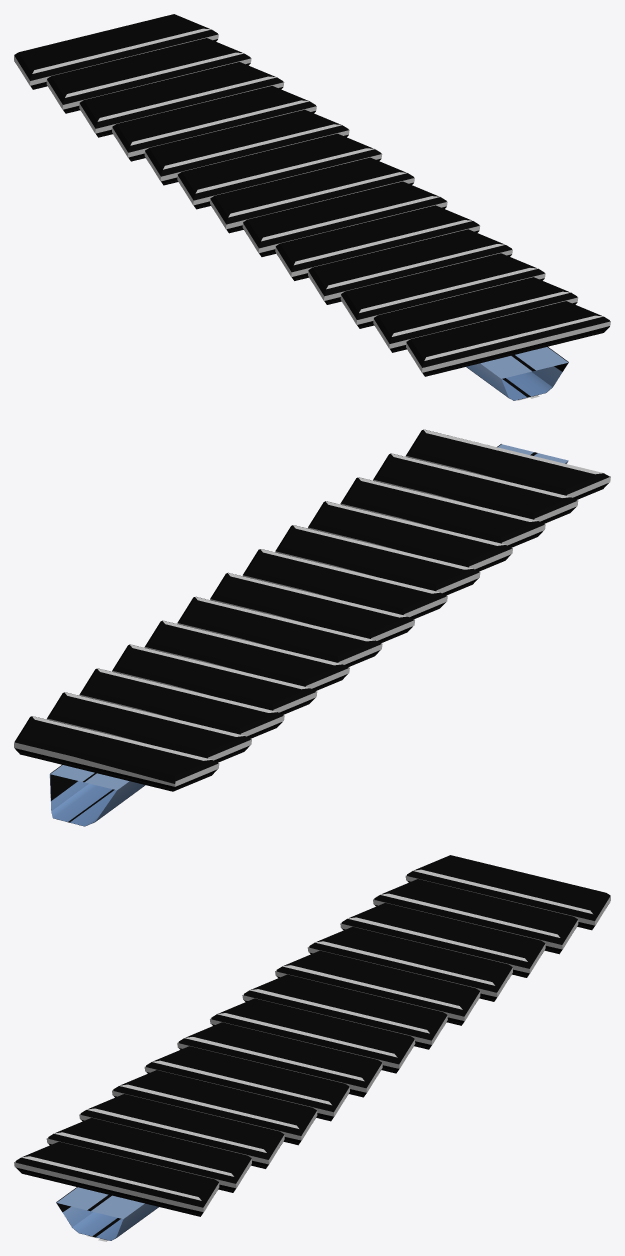
Rendered from Rooms_Paradise_SciFi_Stairs_16b_Art.fbx.
3 renders of one model, top to bottom at view 1: azimuth 30°, elevation 25°; view 2: azimuth 150°, elevation 25°; view 3: azimuth 330°, elevation 25°, orthographic.
Parts seen in each view (by area): view 1: Rooms_Paradise_SciFi_Stairs_Steps_16b_Outliner, Rooms_Paradise_SciFi_Stairs_Steps_16b_Shadows, Rooms_Paradise_SciFi_Stairs_16b_Art; view 2: Rooms_Paradise_SciFi_Stairs_Steps_16b_Outliner, Rooms_Paradise_SciFi_Stairs_Steps_16b_Shadows, Rooms_Paradise_SciFi_Stairs_16b_Art; view 3: Rooms_Paradise_SciFi_Stairs_Steps_16b_Outliner, Rooms_Paradise_SciFi_Stairs_Steps_16b_Shadows, Rooms_Paradise_SciFi_Stairs_16b_Art.
Boxes of the visible parts, x1,y1,x2,y2 form: Rooms_Paradise_SciFi_Stairs_Steps_16b_Outliner: (14, 14, 609, 376); Rooms_Paradise_SciFi_Stairs_Steps_16b_Shadows: (14, 28, 610, 372); Rooms_Paradise_SciFi_Stairs_16b_Art: (466, 347, 568, 400); Rooms_Paradise_SciFi_Stairs_Steps_16b_Outliner: (14, 429, 609, 791); Rooms_Paradise_SciFi_Stairs_Steps_16b_Shadows: (14, 429, 610, 786); Rooms_Paradise_SciFi_Stairs_16b_Art: (49, 444, 568, 826); Rooms_Paradise_SciFi_Stairs_Steps_16b_Outliner: (15, 855, 610, 1216); Rooms_Paradise_SciFi_Stairs_Steps_16b_Shadows: (14, 869, 610, 1212); Rooms_Paradise_SciFi_Stairs_16b_Art: (56, 1187, 158, 1240).
Bounding box in the file's own units: 234 × 58.57 × 998.
